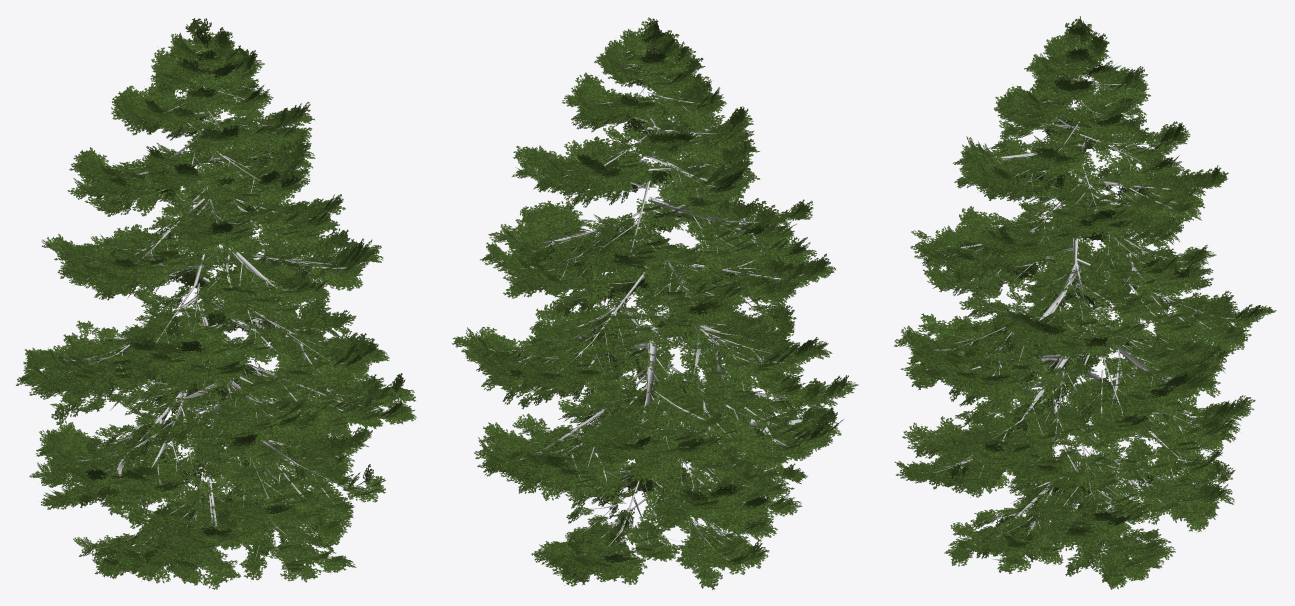
The model's file is spruce_0.gltf.
3 views of the same model, side by side, from view 1: azimuth 30°, elevation 25°; view 2: azimuth 150°, elevation 25°; view 3: azimuth 270°, elevation 25° (orthographic). The views are drawn at different scales.
Parts seen in each view (by area): view 1: LOD0; view 2: LOD0; view 3: LOD0.
Boxes of the visible parts, bbox=[...] form: LOD0: bbox=[15, 18, 416, 589]; LOD0: bbox=[452, 17, 858, 590]; LOD0: bbox=[894, 16, 1276, 589].
Size of what is drawn, in the model's own units: 8.81 by 13.61 by 8.93.
